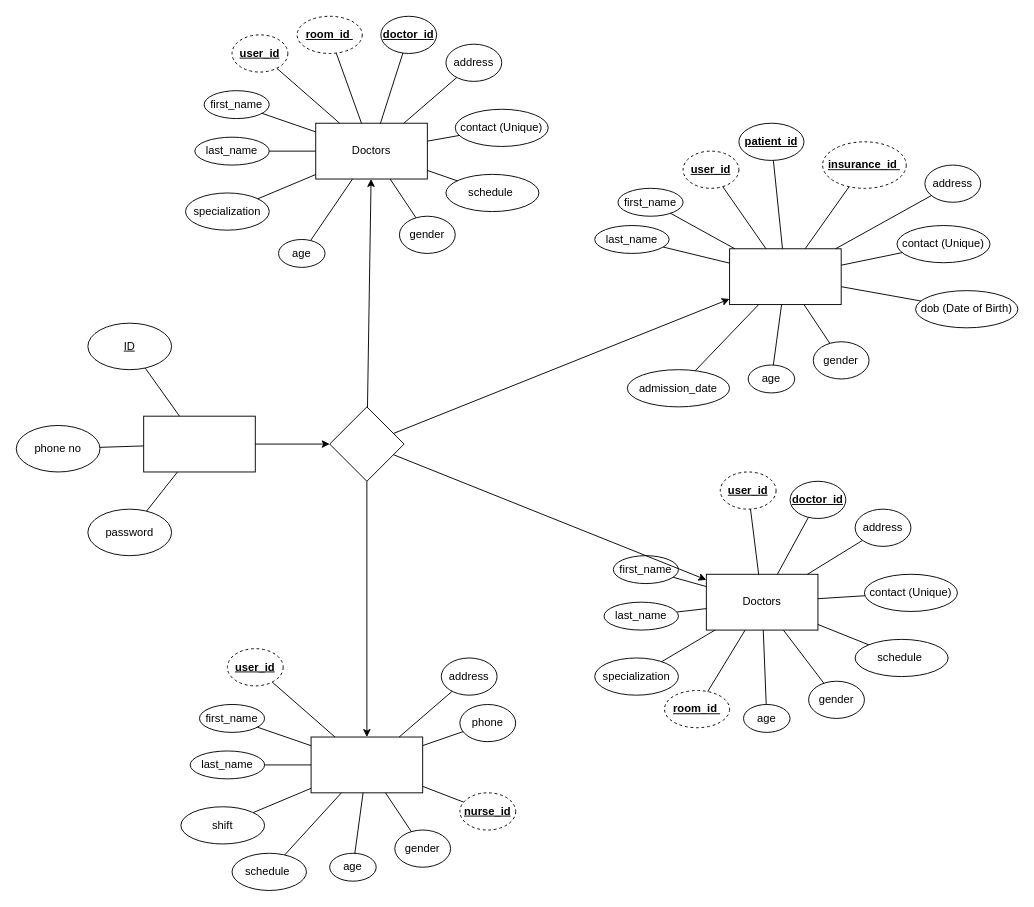
This 1034x907 diagram has some shape labels left out. The centre of each missing label's shape, as x and y in pixels:
Nurse: (366,764)
Patient: (785,276)
Role: (366,443)
Users: (199,443)
